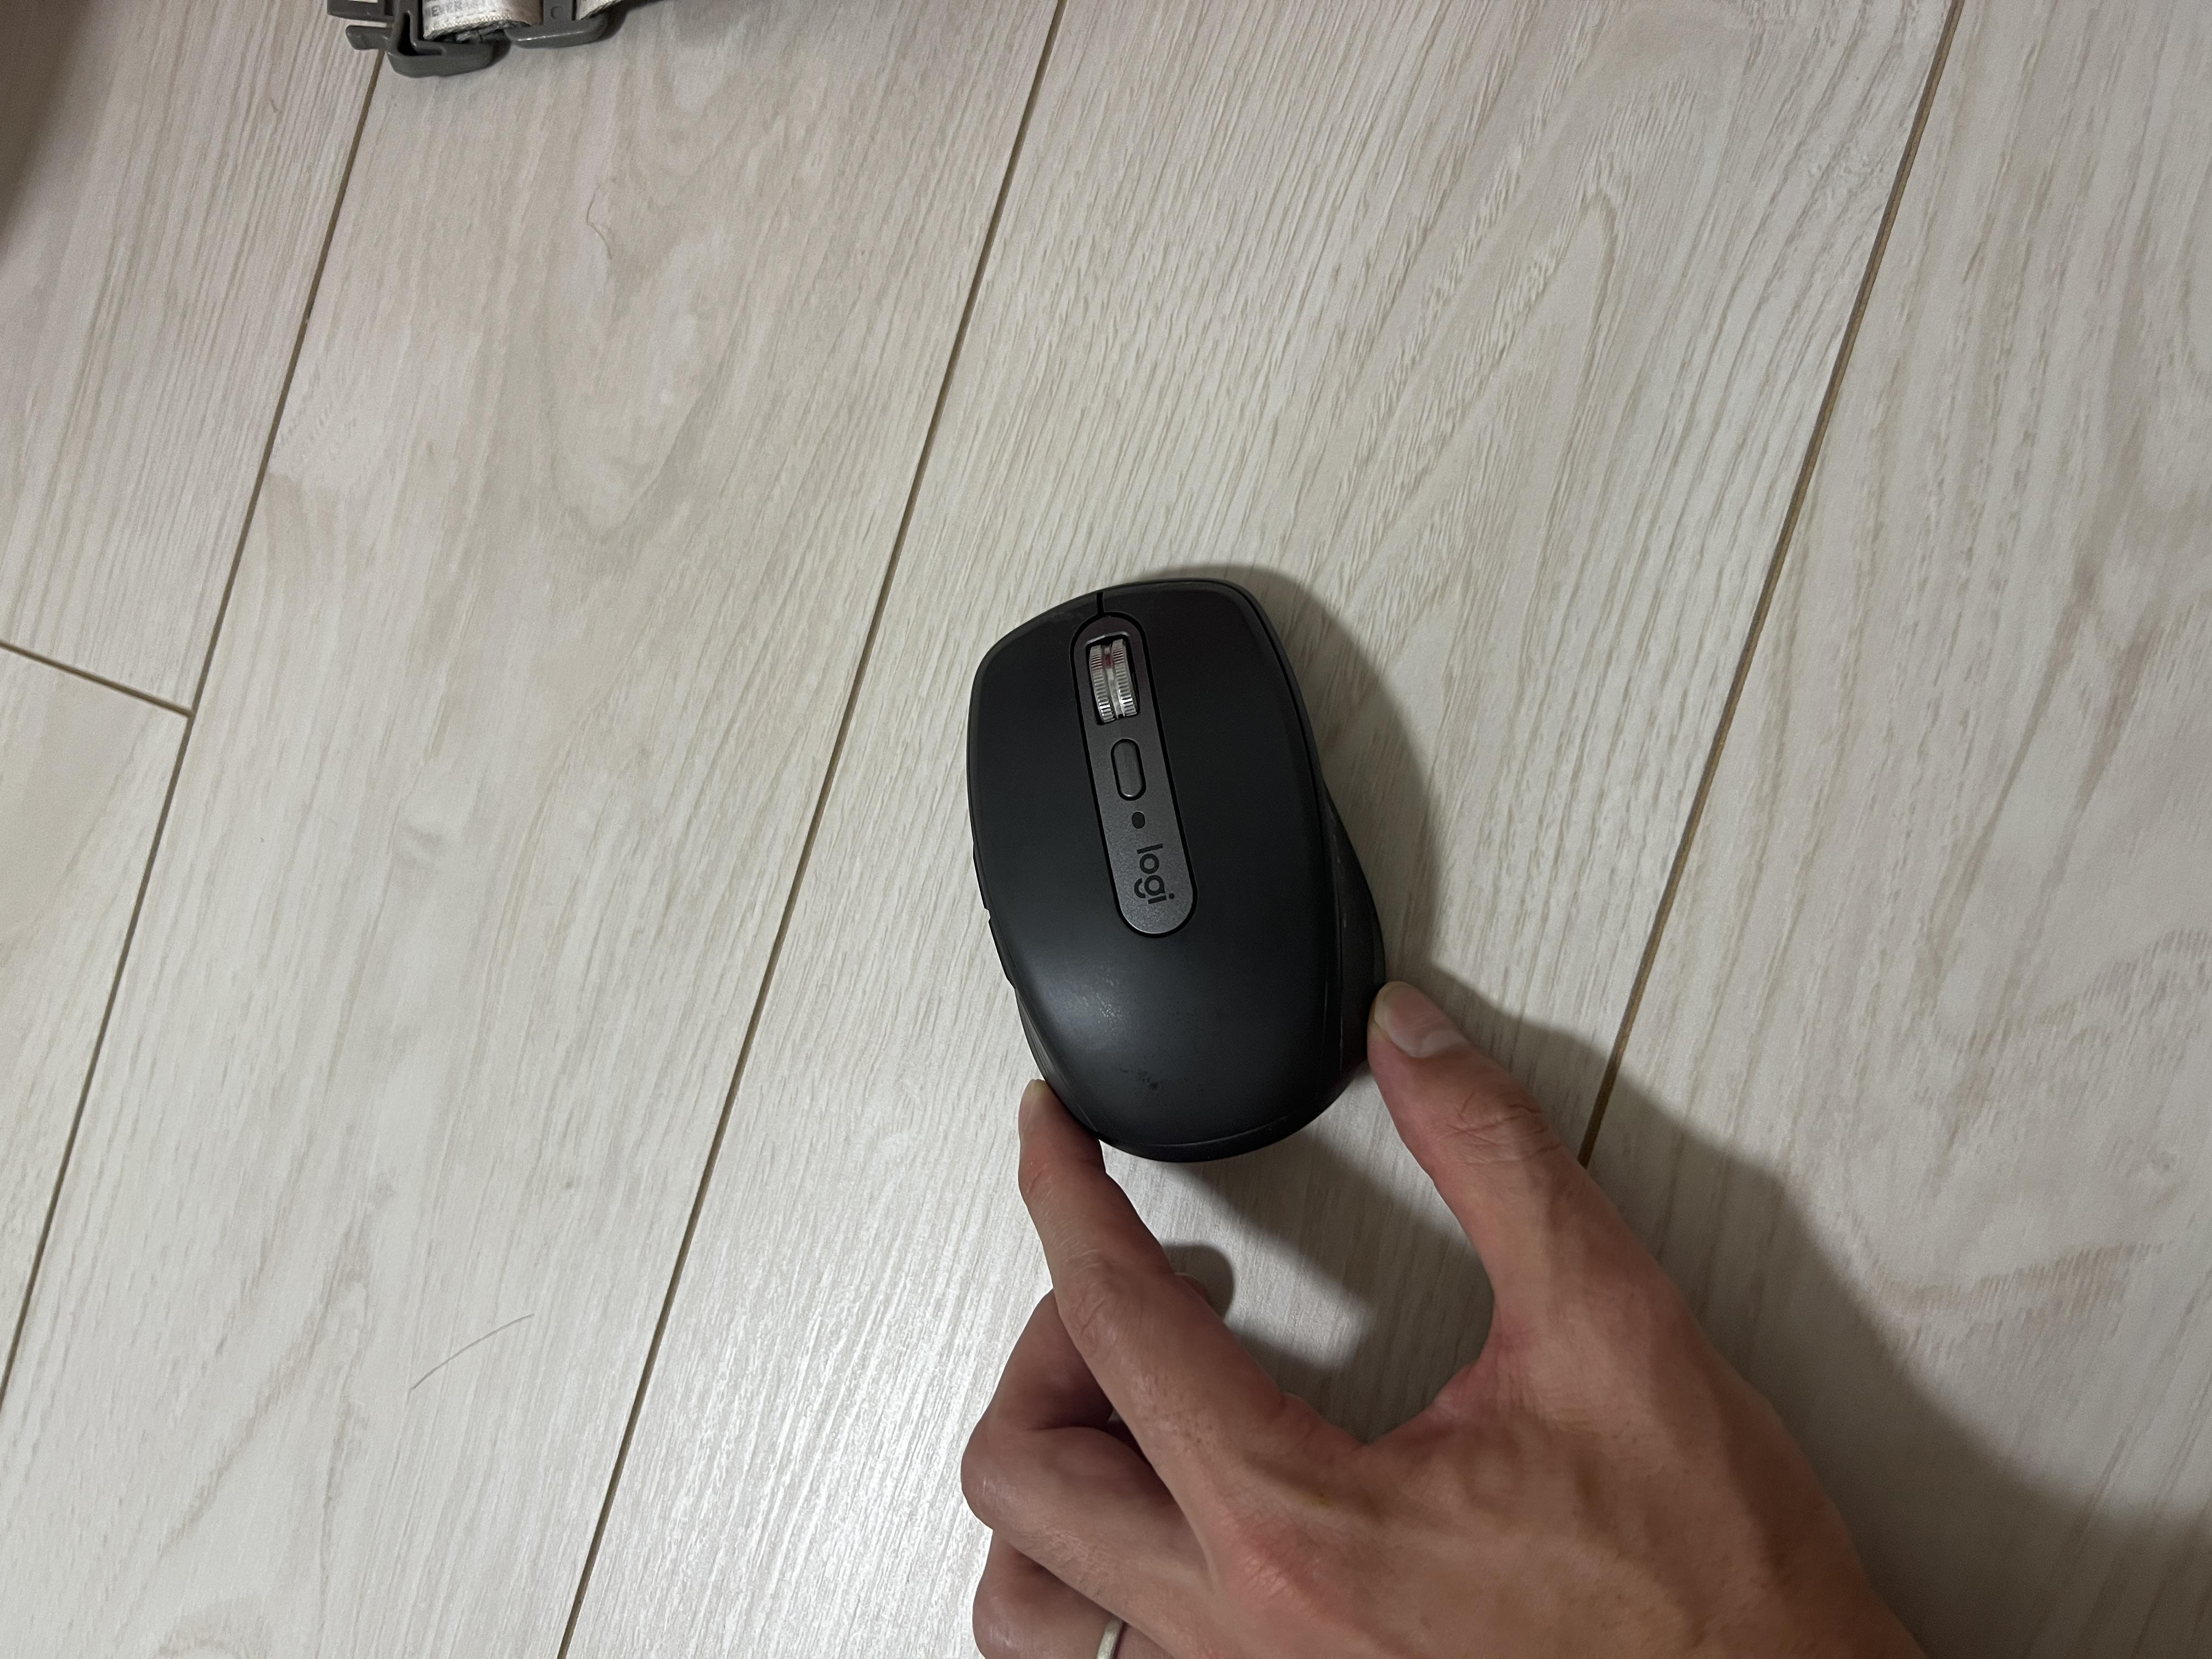mouse: (688, 716, 1453, 1042)
